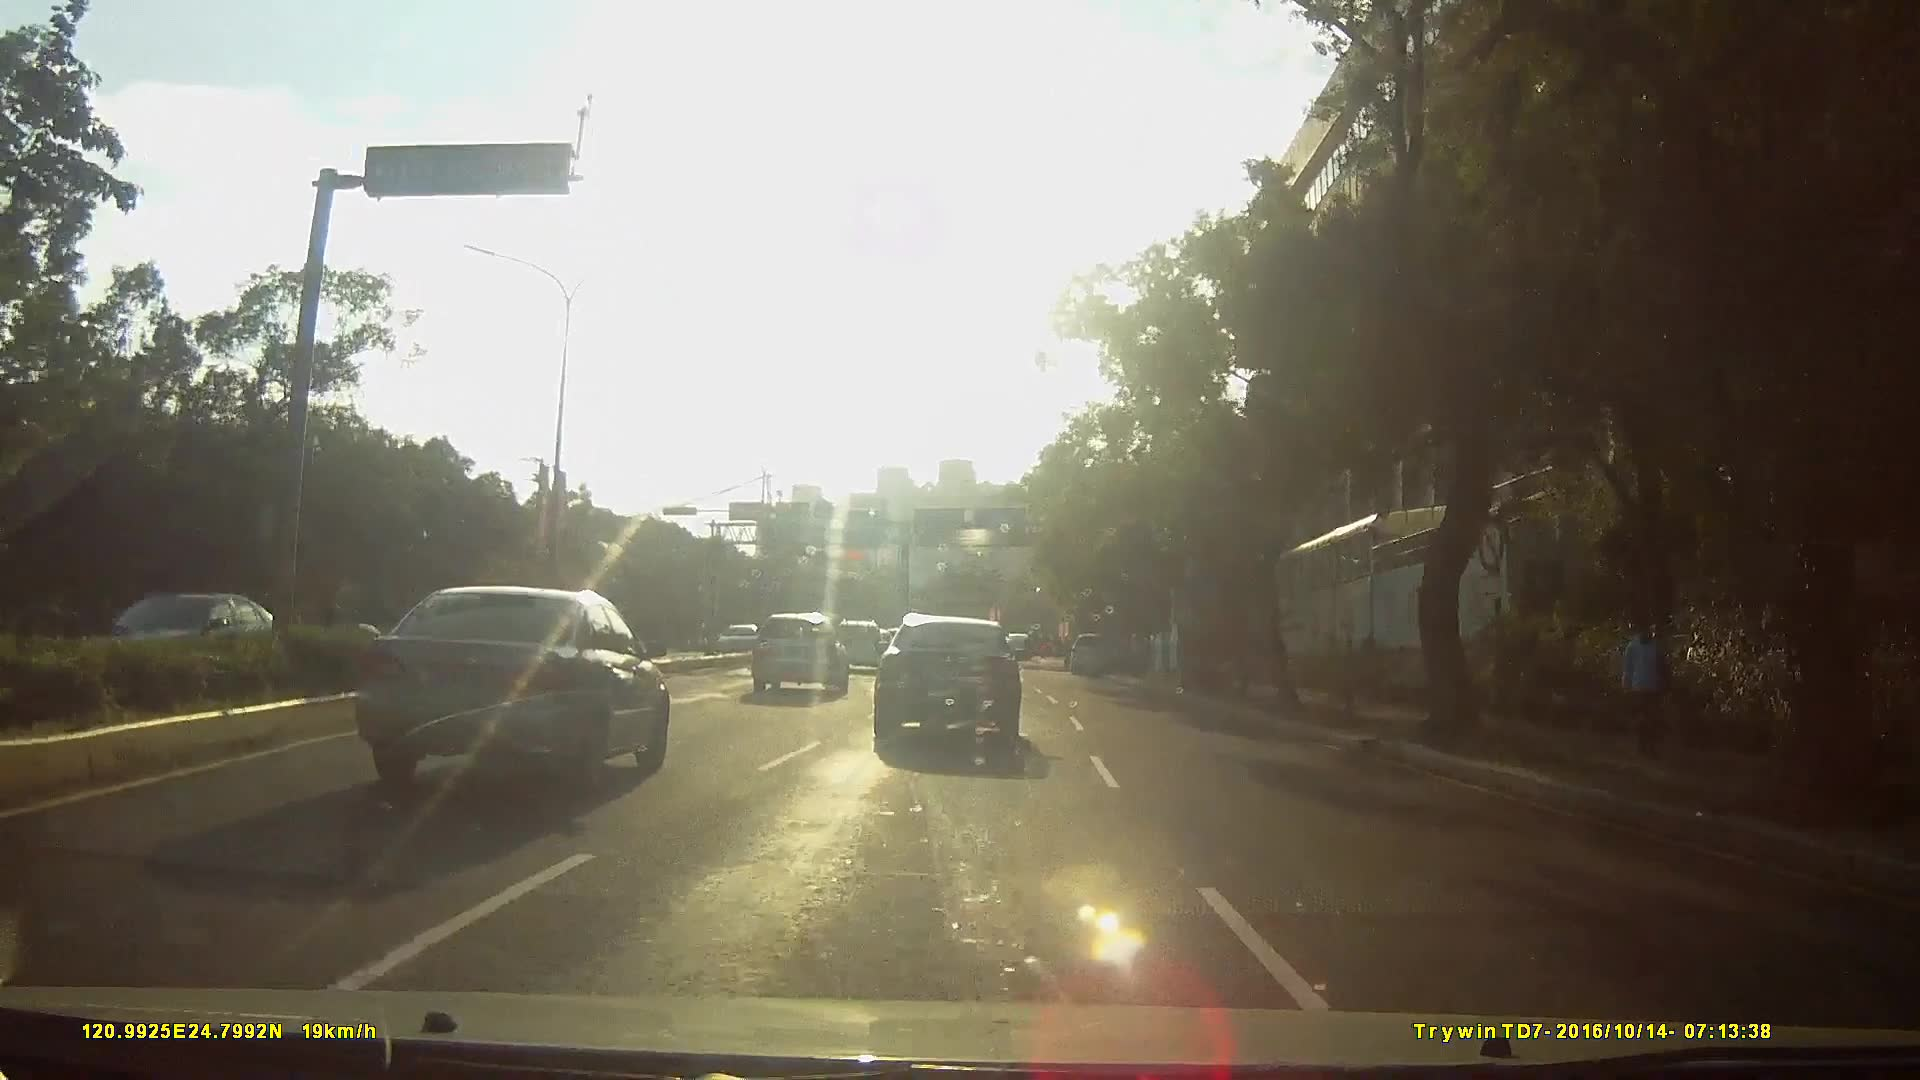pedestrian: (1618, 603, 1675, 764)
vehicle: (336, 582, 664, 799), (75, 592, 312, 697), (869, 613, 1037, 757), (744, 611, 845, 700), (825, 615, 881, 673), (1066, 630, 1117, 677), (713, 620, 767, 660)
